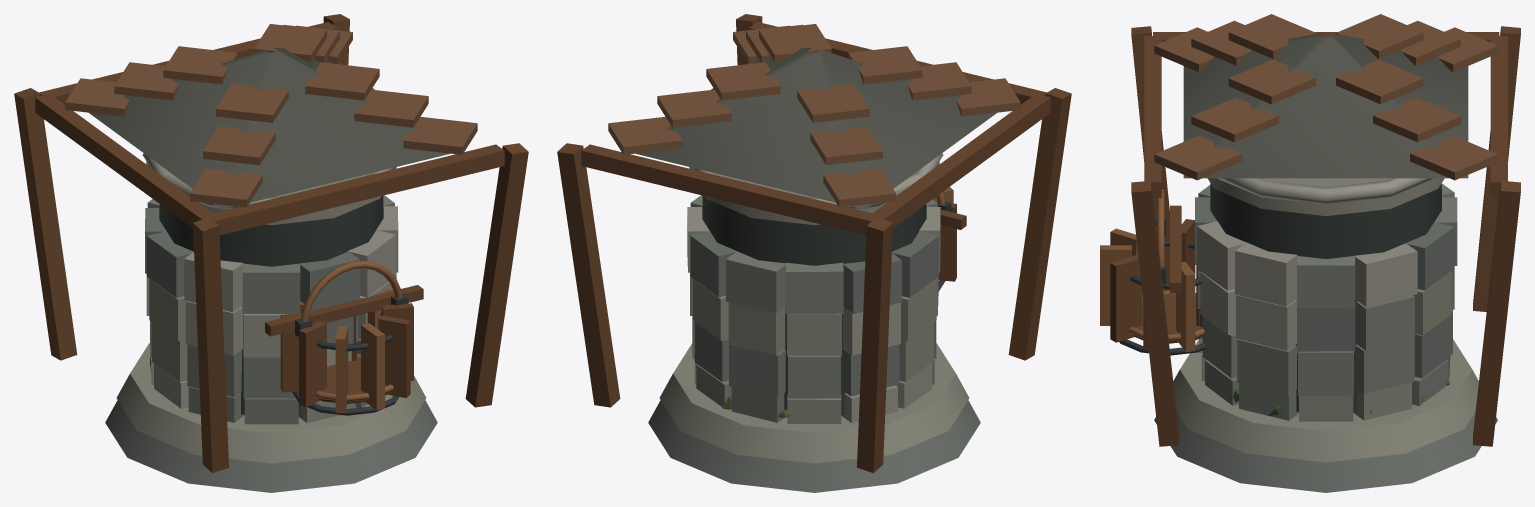
Rendered from well.glb.
3 renders of one model, left to right at view 1: azimuth 30°, elevation 25°; view 2: azimuth 150°, elevation 25°; view 3: azimuth 270°, elevation 25°, orthographic. The views are drawn at different scales.
Visible parts, largest first — view 1: Roof_Understructure, Well_Foundation_Upper, Well_Foundation_Lower, Well_Mortar_Core, Roof_Post_1_1, Roof_Post_-1_-1, Roof_Cross_Beam_X_2, Roof_Post_-1_1, Roof_Cross_Beam_Z, Well_Stone_C4_S12, Well_Stone_C4_S1, Roof_Tile_S1_T3 (+36 smaller); view 2: Roof_Understructure, Well_Foundation_Upper, Well_Foundation_Lower, Well_Mortar_Core, Roof_Post_1_-1, Roof_Post_-1_1, Roof_Cross_Beam_X, Roof_Post_-1_-1, Roof_Cross_Beam_Z, Well_Stone_C4_S7, Well_Stone_C4_S8, Well_Stone_C2_S7 (+32 smaller); view 3: Roof_Understructure, Well_Foundation_Upper, Well_Mortar_Core, Well_Foundation_Lower, Roof_Post_1_1, Roof_Post_1_-1, Well_Rim, Well_Stone_C4_S3, Well_Rim_Trim, Well_Stone_C4_S5, Roof_Post_-1_-1, Well_Stone_C4_S4 (+43 smaller).
Part boxes in pixels (x1,y1,x2,y2): Roof_Understructure: (89,47,449,209); Well_Foundation_Upper: (116,343,426,463); Well_Foundation_Lower: (105,400,437,492); Well_Mortar_Core: (159,195,383,414); Roof_Post_1_1: (465,143,528,407); Roof_Post_-1_-1: (14,88,77,360); Roof_Cross_Beam_X_2: (206,144,504,235); Roof_Post_-1_1: (193,217,228,473); Roof_Cross_Beam_Z: (35,95,216,227); Well_Stone_C4_S12: (242,263,300,313); Well_Stone_C4_S1: (299,252,359,310); Roof_Tile_S1_T3: (305,62,379,100); Roof_Understructure: (636,47,996,209); Well_Foundation_Upper: (659,343,969,463); Well_Foundation_Lower: (648,400,980,492); Well_Mortar_Core: (702,195,926,414); Roof_Post_1_-1: (557,143,620,407); Roof_Post_-1_1: (1008,88,1071,360); Roof_Cross_Beam_X: (581,144,879,235); Roof_Post_-1_-1: (857,217,892,473); Roof_Cross_Beam_Z: (869,95,1050,227); Well_Stone_C4_S7: (726,252,785,313); Well_Stone_C4_S8: (785,262,843,313); Well_Stone_C2_S7: (729,344,785,397); Roof_Understructure: (1183,33,1468,178); Well_Foundation_Upper: (1173,339,1478,462); Well_Mortar_Core: (1210,183,1441,412); Well_Foundation_Lower: (1154,412,1497,492); Roof_Post_1_1: (1131,181,1179,446); Roof_Post_1_-1: (1473,180,1520,446); Well_Rim: (1207,178,1444,215); Well_Stone_C4_S3: (1235,242,1297,306); Well_Rim_Trim: (1217,178,1434,204); Well_Stone_C4_S5: (1354,243,1417,306); Roof_Post_-1_-1: (1473,26,1520,311); Well_Stone_C4_S4: (1297,256,1355,308).
Bounding box in the file's own units: 3.33 × 3.63 × 3.6.
